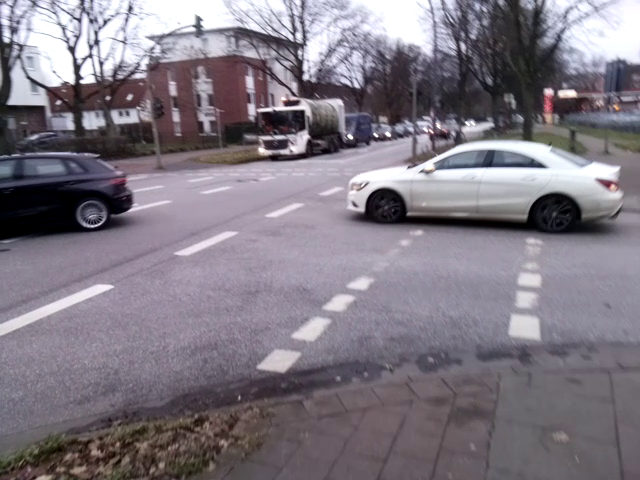car: (346, 133, 626, 236)
